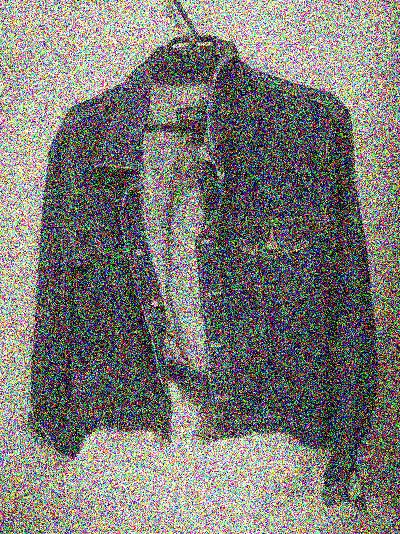Blazer: (18, 51, 373, 505)
